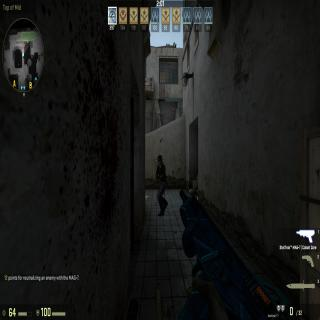T-Body: (154, 152, 168, 216)
T-Head: (156, 153, 164, 169)
